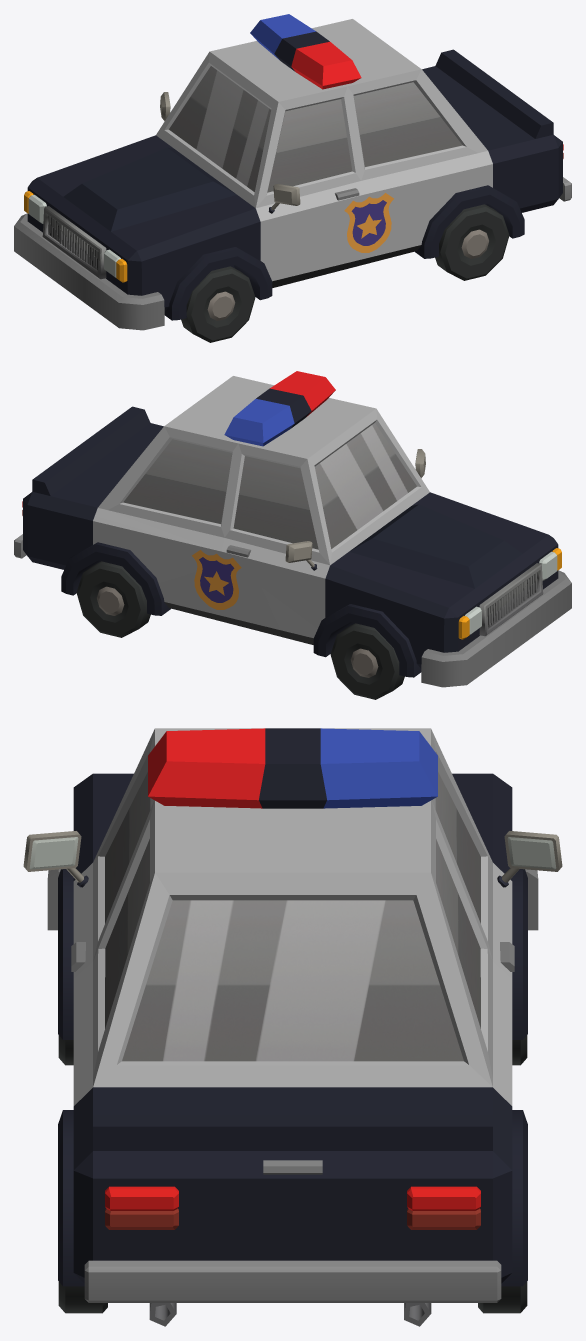
File: Car_Police_1_A_1.fbx
3 views of the same model, one above another, from view 1: azimuth 30°, elevation 25°; view 2: azimuth 150°, elevation 25°; view 3: azimuth 270°, elevation 25° (orthographic). The views are drawn at different scales.
Parts seen in each view (by area): view 1: Car_Police_1_A_1, RL, FL; view 2: Car_Police_1_A_1, RR, FR; view 3: Car_Police_1_A_1, RL, RR.
Part boxes in pixels (box(x1,y1,x2,y2)): Car_Police_1_A_1: box(14, 14, 571, 330); RL: box(435, 204, 509, 280); FL: box(181, 266, 255, 342); Car_Police_1_A_1: box(14, 371, 571, 687); RR: box(76, 561, 150, 637); FR: box(330, 623, 404, 699); Car_Police_1_A_1: box(23, 728, 562, 1326); RL: box(58, 1281, 107, 1313); RR: box(478, 1281, 527, 1313).
Size of the model in its own units: 347 by 164 by 178.
